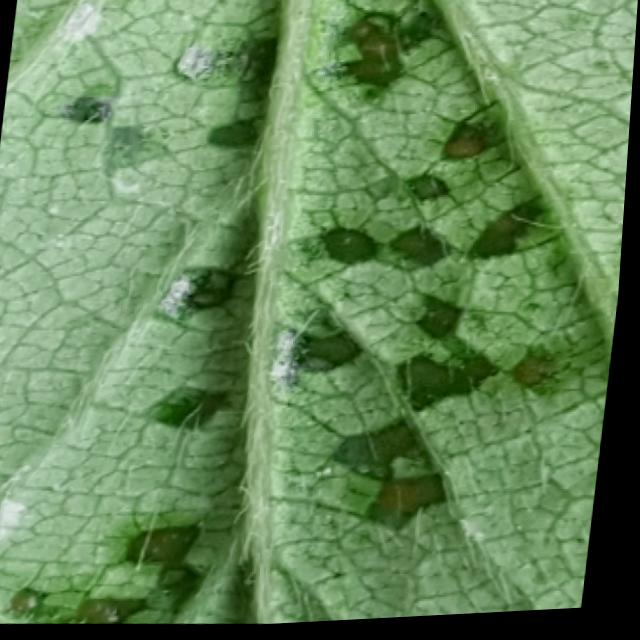Angular Leafspot: (0, 0, 585, 627)
